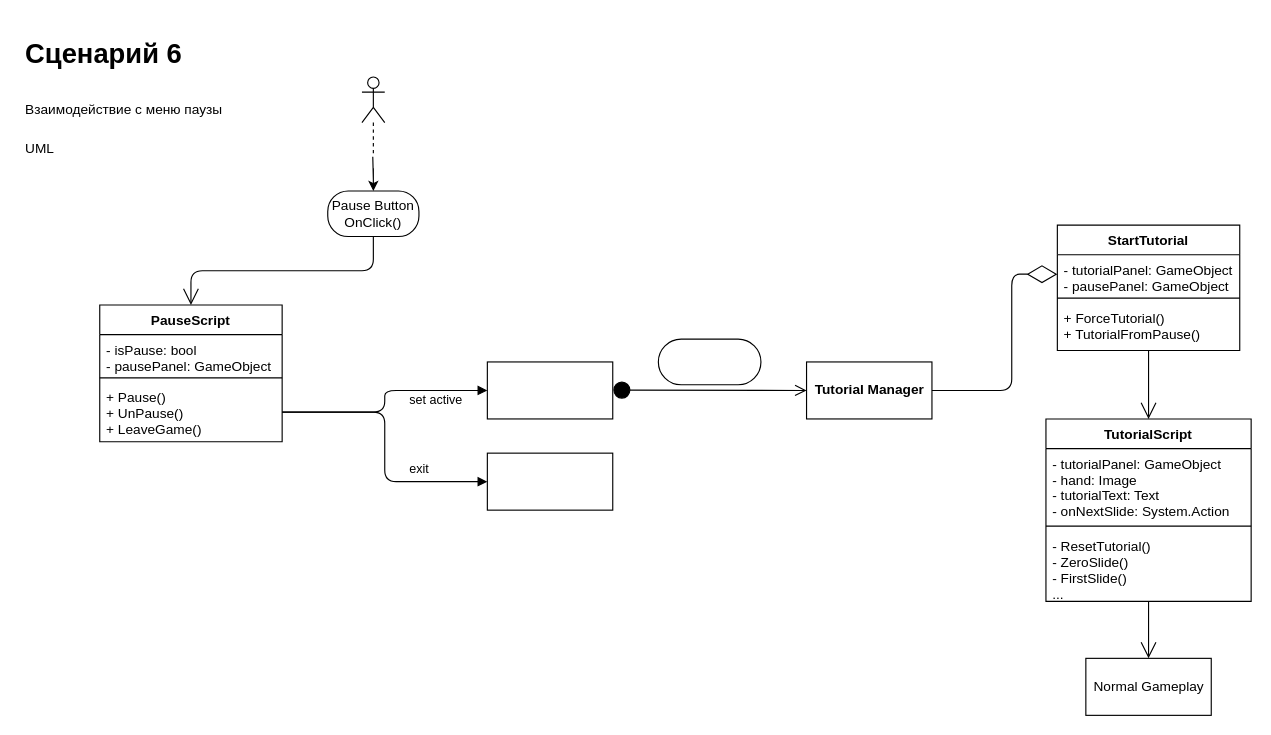
The diagram is 1271 pixels wide and 735 high, and some of its shapes have lost their labels. Here are the shapes that lost their labels. From the top down, the centre of each, then its label:
[709,361]: Tutorial Button OnClick()
[549,390]: Pause Panel
[549,481]: Main Menu
